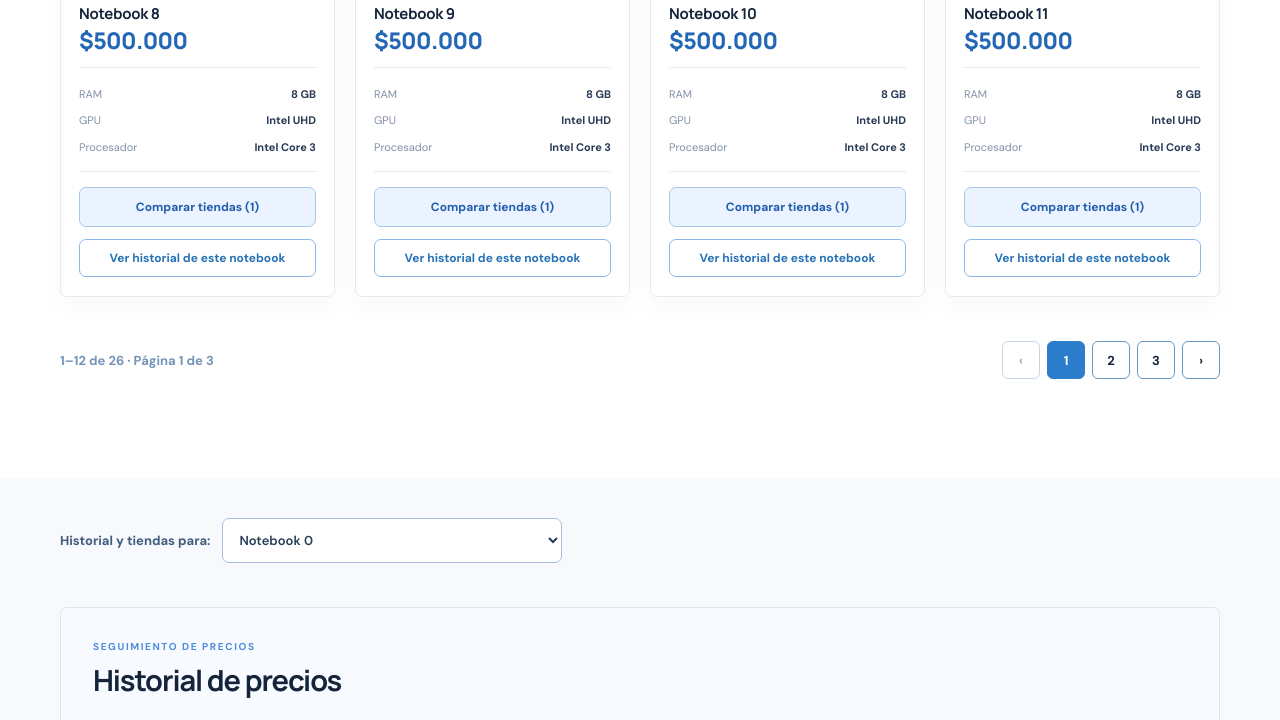
moves between groups of 12 without losing filters
(page scrolled)
Click the button named "Página siguiente" at (1201, 360), box [1182,341,1220,379]
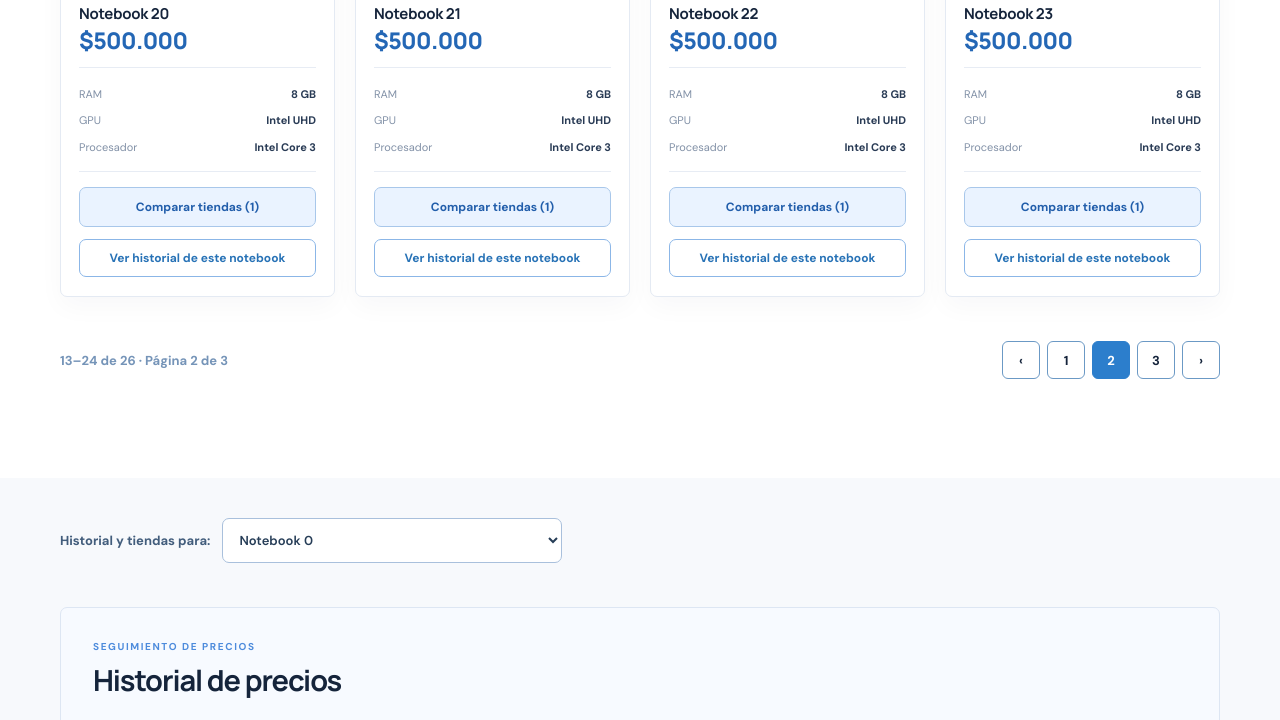
Expected: the text "13–24 de 26 · Página 2 de 3" is shown, [60,352,228,368]
